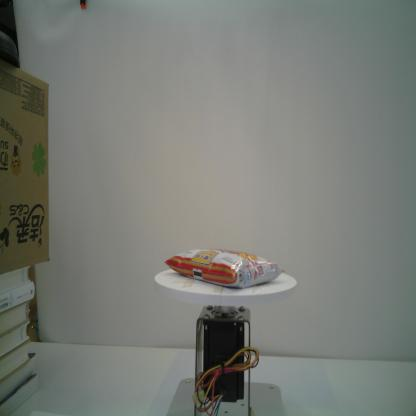Seasoner: (162, 243, 286, 292)
